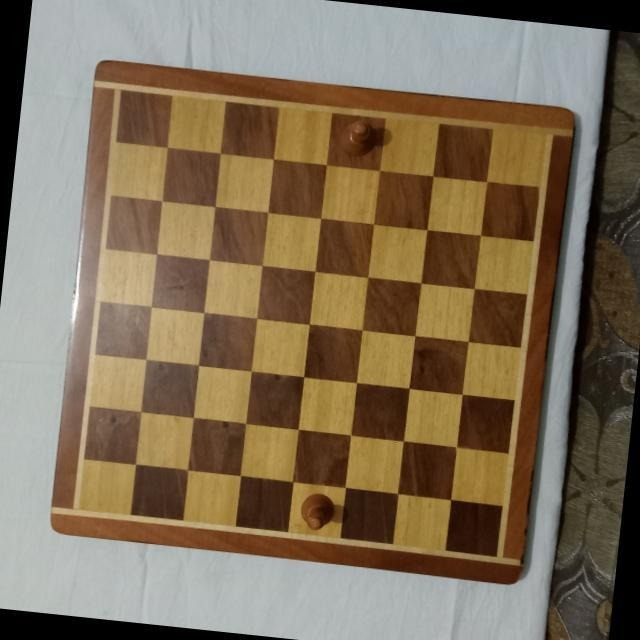white-pawn: (295, 488, 337, 532), (336, 116, 380, 156)
